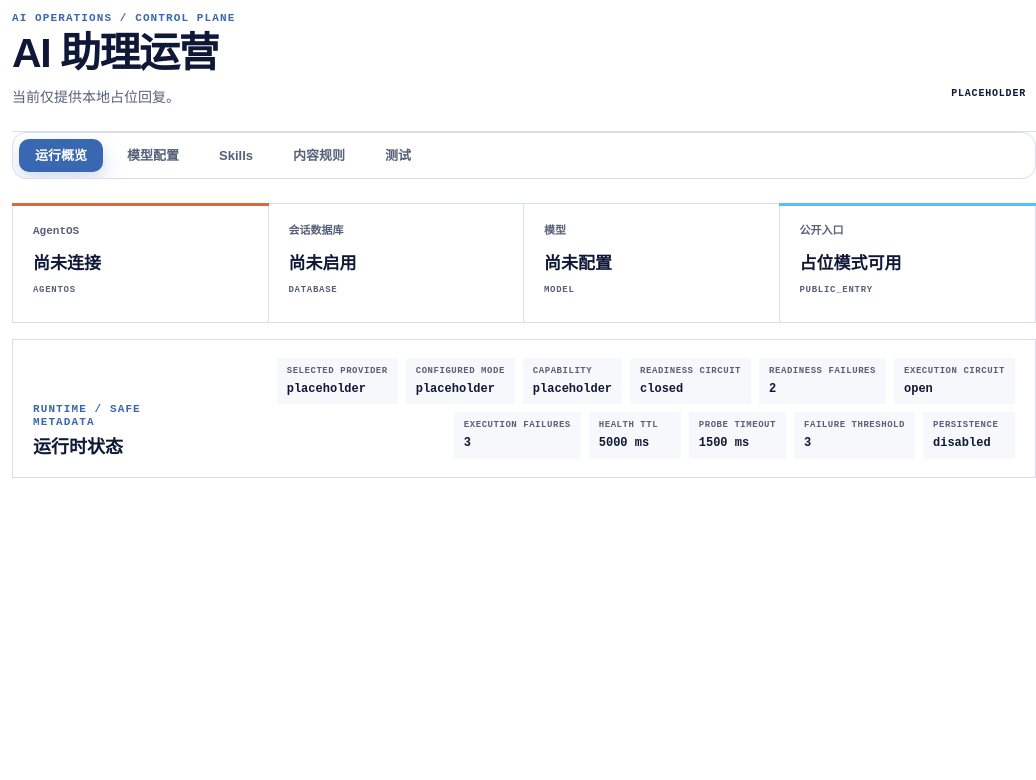
Test: AssistantAdminPage › preserves the confirmed policy revision and draft across tab switches
Step 1. Click the tab "内容规则" → (319, 156), box [277,139,361,172]
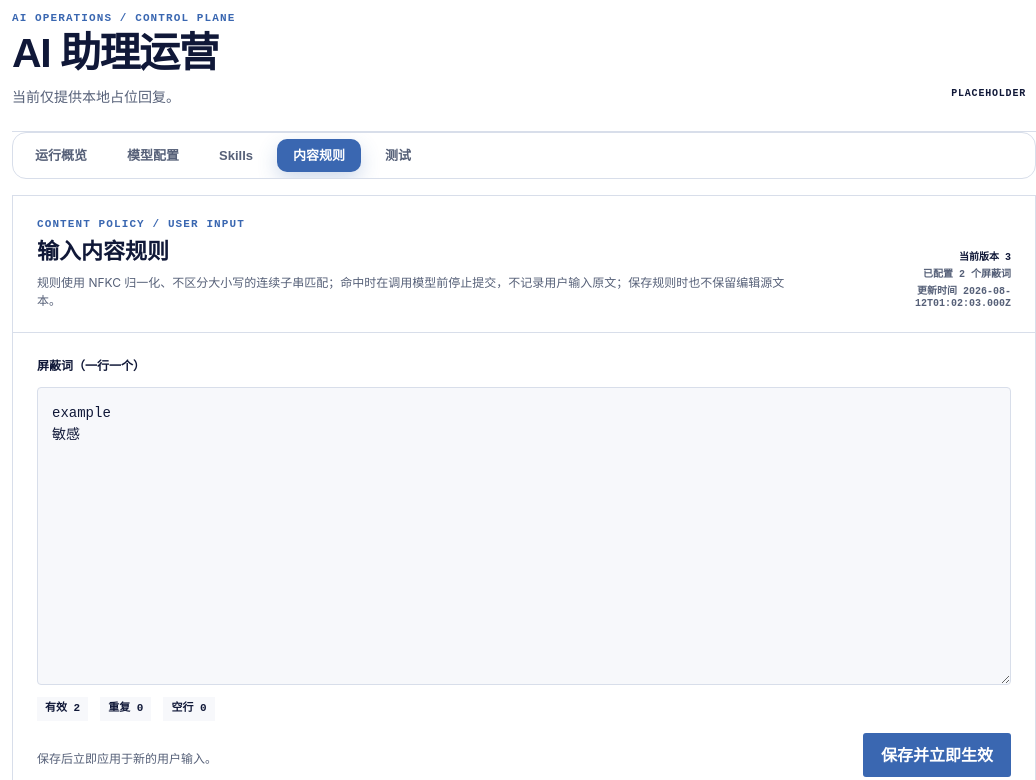
Step 2. Replace the text in the text box labelled "屏蔽词（一行一个）" with "Confirmed" → (524, 536), box [37,387,1011,685]
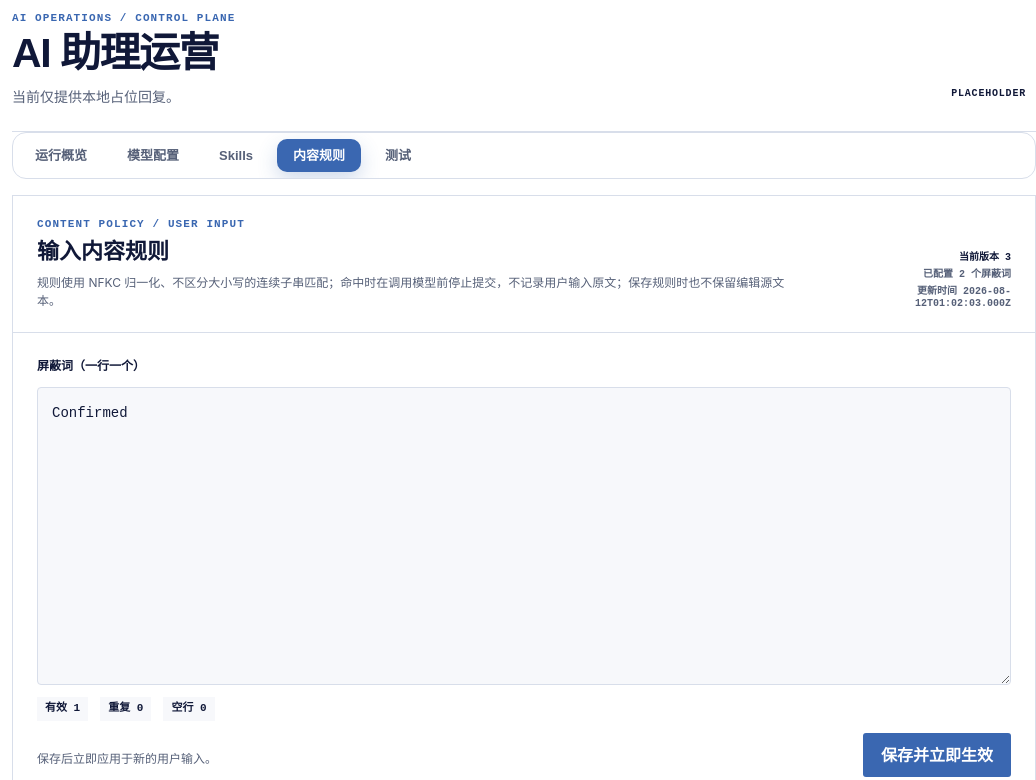
Step 3. Click the button "保存并立即生效" → (937, 755), box [863,733,1011,777]
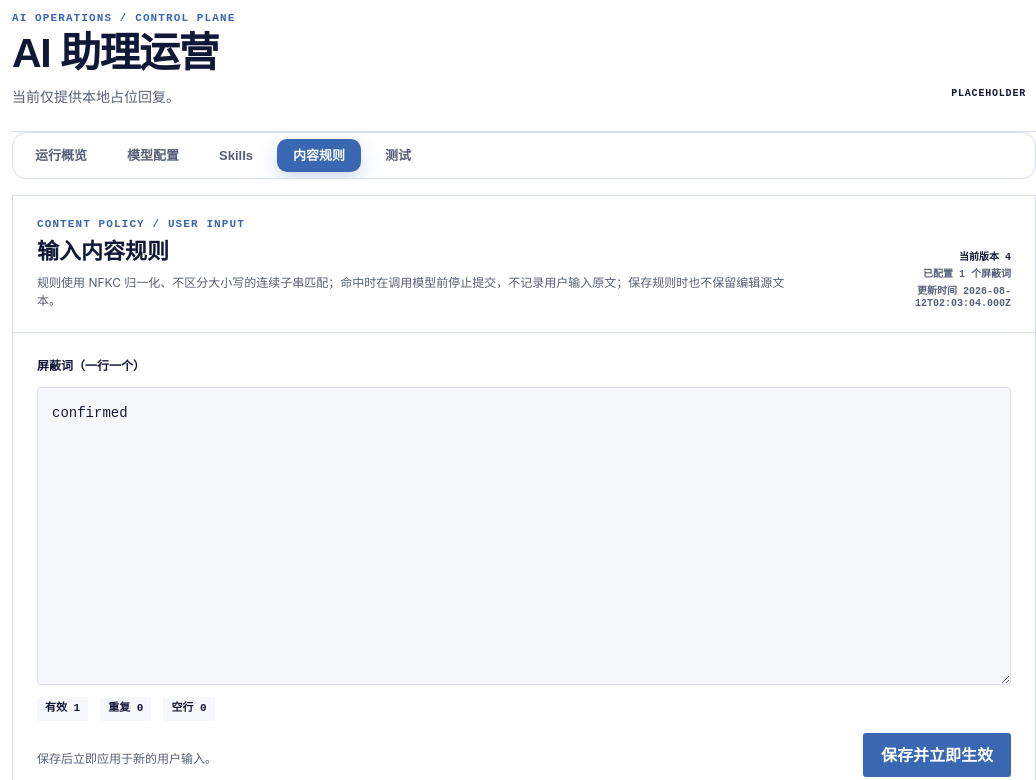
Expected: the text "当前版本 4" is shown, [959,252,1011,263]
Step 4. Click the tab "Skills" → (236, 156), box [203,139,269,172]
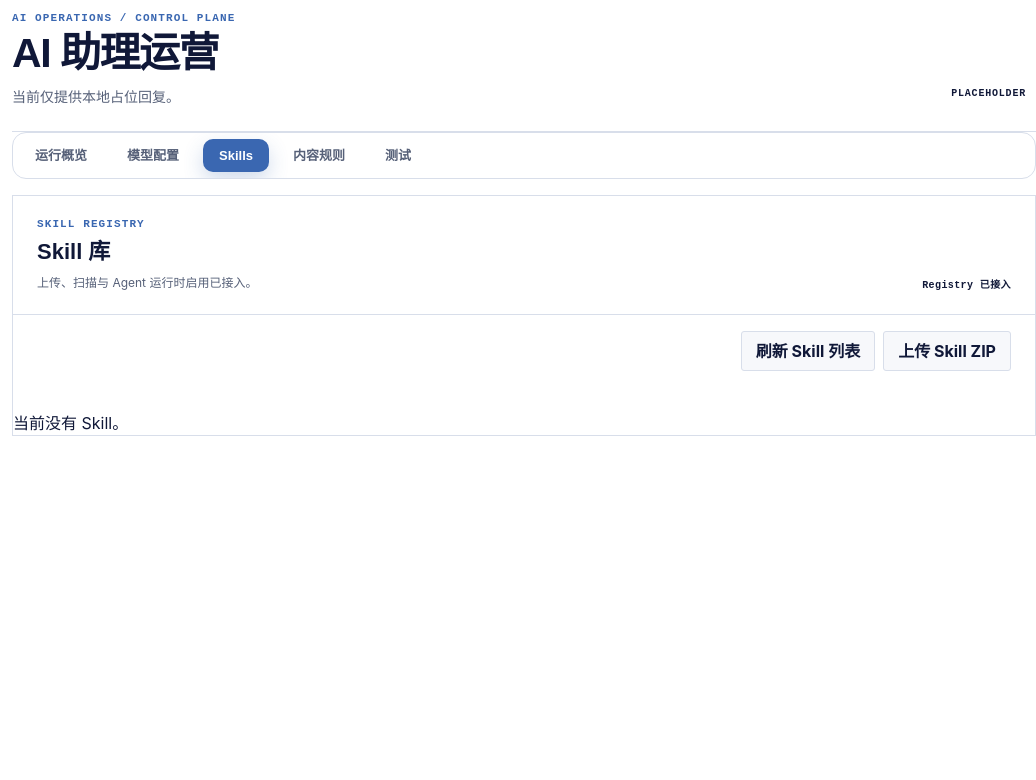
Step 5. Click the tab "内容规则" → (319, 156), box [277,139,361,172]
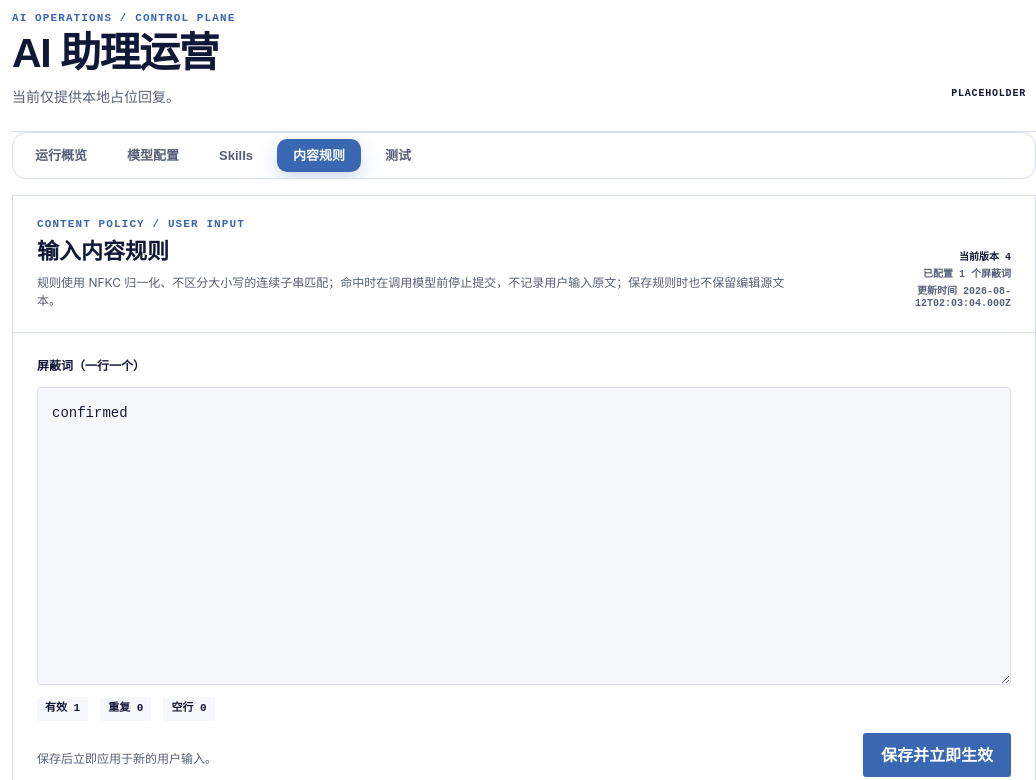
Expected: the text "当前版本 4" is shown, [959,252,1011,263]
